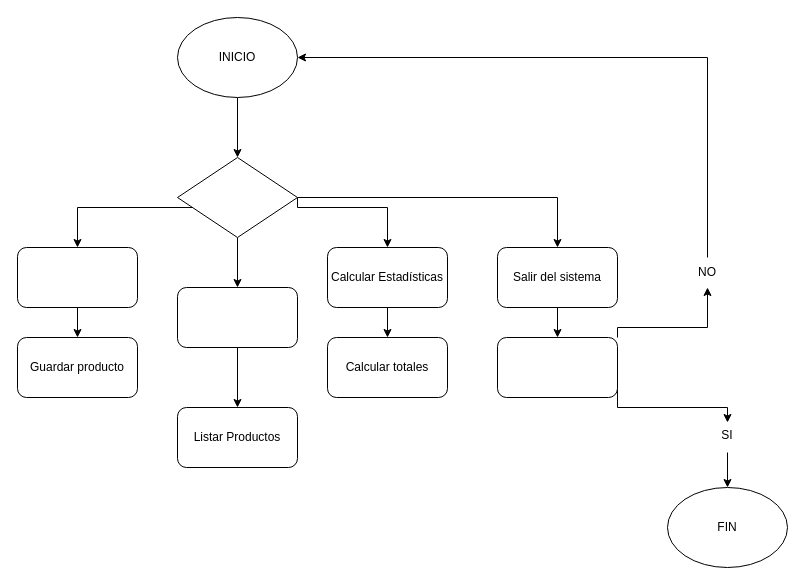
Image size: 805x585. Some labels were removed from this diagram. The centre of each missing label's shape, as x and y in pixels:
"Agregar Producto" goes at [77,277].
"Confirmar salir" goes at [557,367].
"Mostrar Inventario" goes at [237,317].
"Seleccionar Opción" goes at [237,197].
